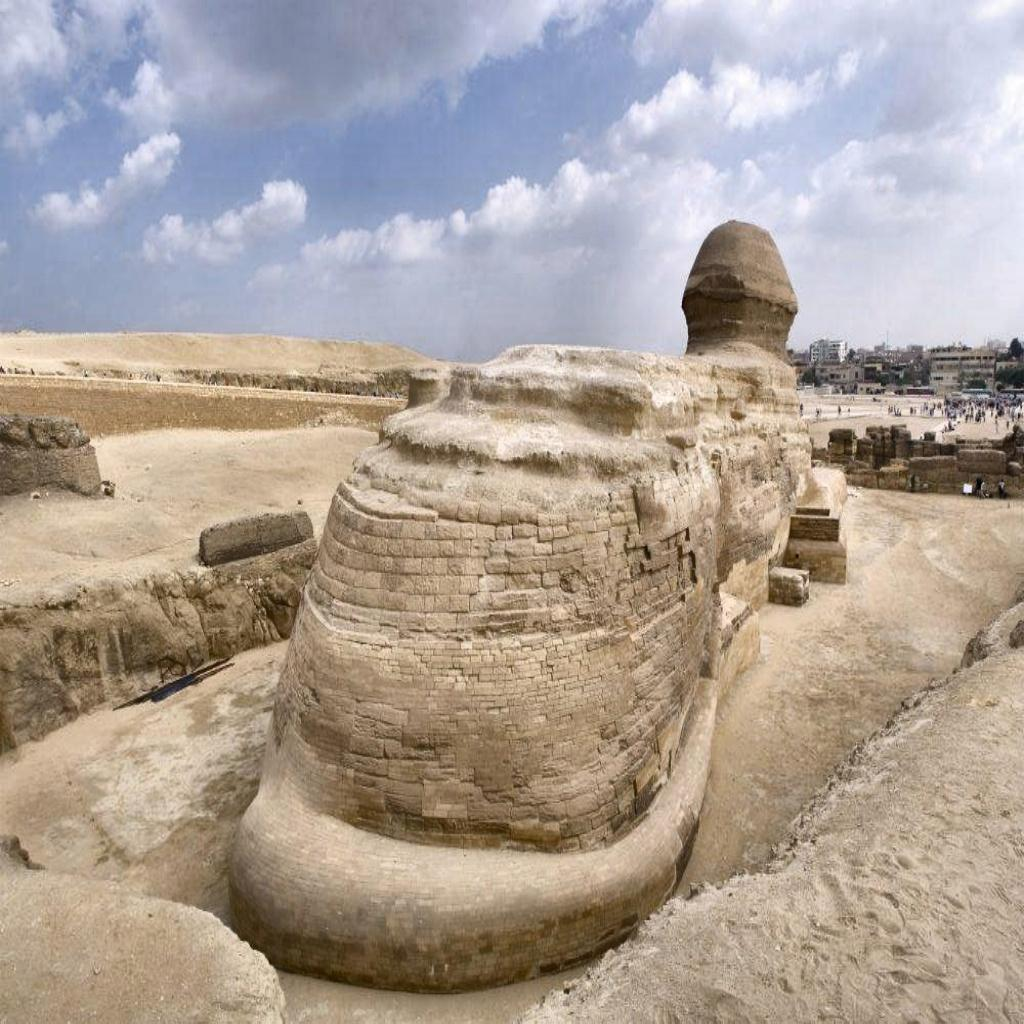Sphinx: (224, 218, 826, 994)
